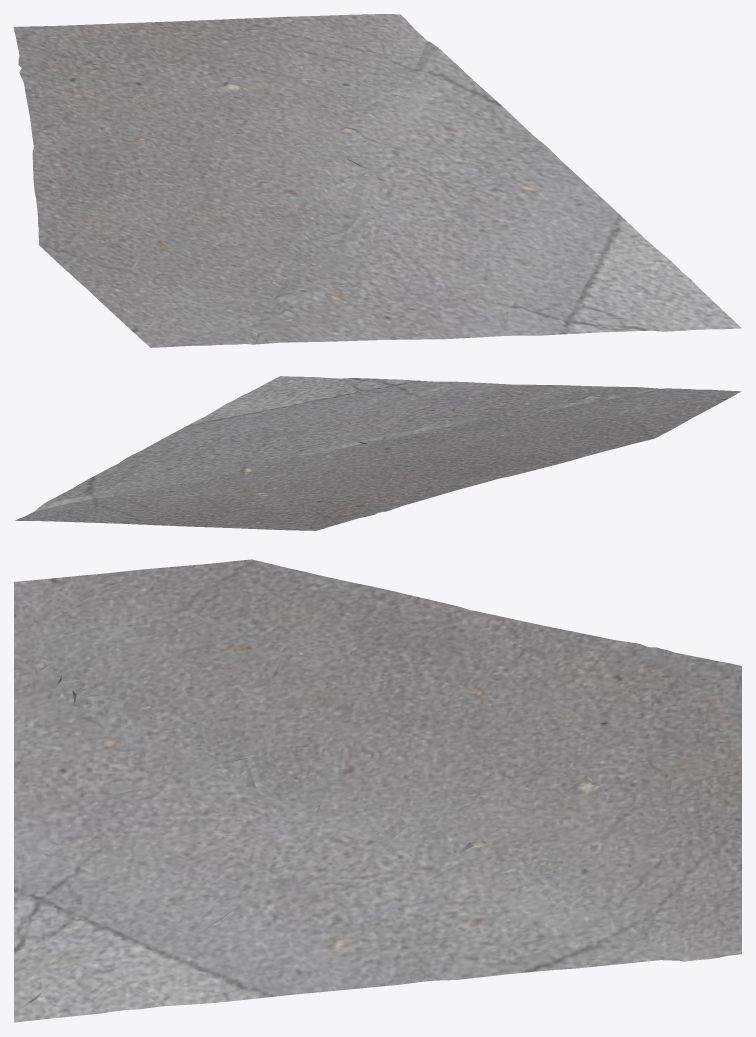
3 renders of one model, top to bottom at view 1: azimuth 30°, elevation 25°; view 2: azimuth 150°, elevation 25°; view 3: azimuth 270°, elevation 25°, orthographic. The views are drawn at different scales.
Size of the model in its own units: 3.35 by 0.7893 by 3.35.
Materials: 2 (2 with a texture image).
